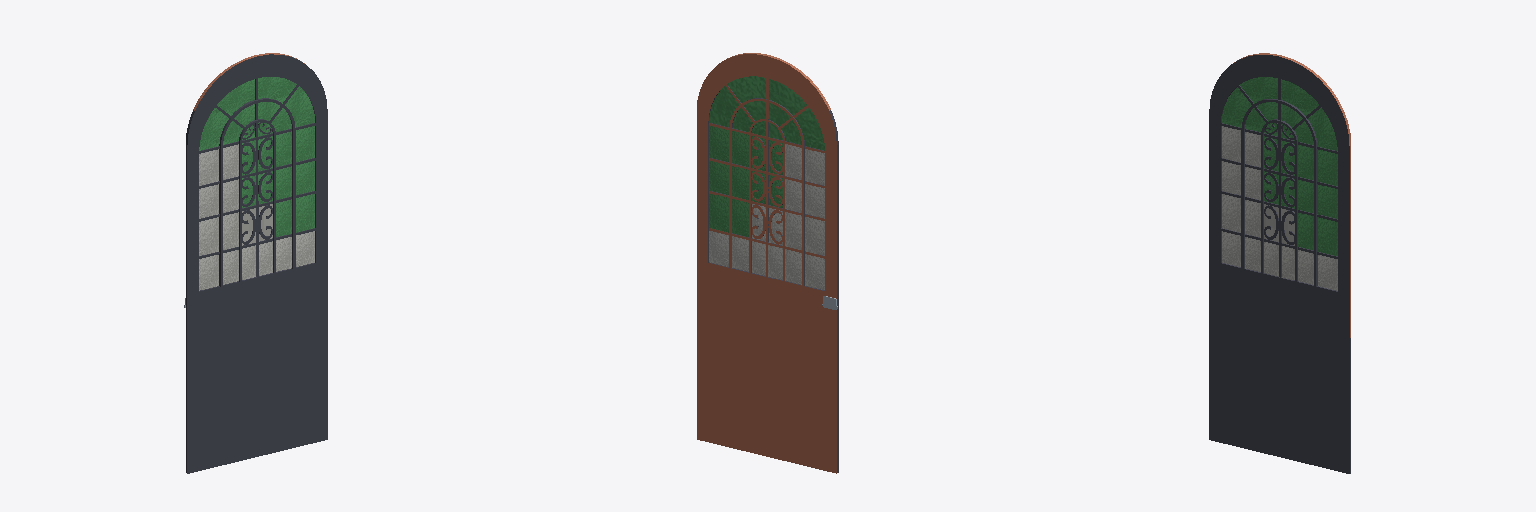
The picture shows the model from 3 angles: view 1: azimuth 30°, elevation 25°; view 2: azimuth 150°, elevation 25°; view 3: azimuth 330°, elevation 25°; orthographic projection.
Visible parts, largest first — view 1: pasted__PUERTA_ENTRADA1; view 2: pasted__PUERTA_ENTRADA1; view 3: pasted__PUERTA_ENTRADA1.
Boxes of the visible parts, <box> form: pasted__PUERTA_ENTRADA1: <box>184,53,327,473</box>; pasted__PUERTA_ENTRADA1: <box>697,53,838,473</box>; pasted__PUERTA_ENTRADA1: <box>1209,53,1350,473</box>.
Bounding box in the file's own units: 1.23 × 3.33 × 0.0469.
Materials: 6 (5 with a texture image).